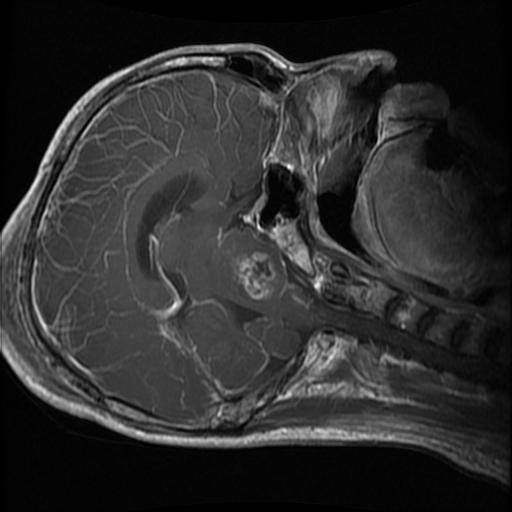glioma: (231, 252, 279, 303)
